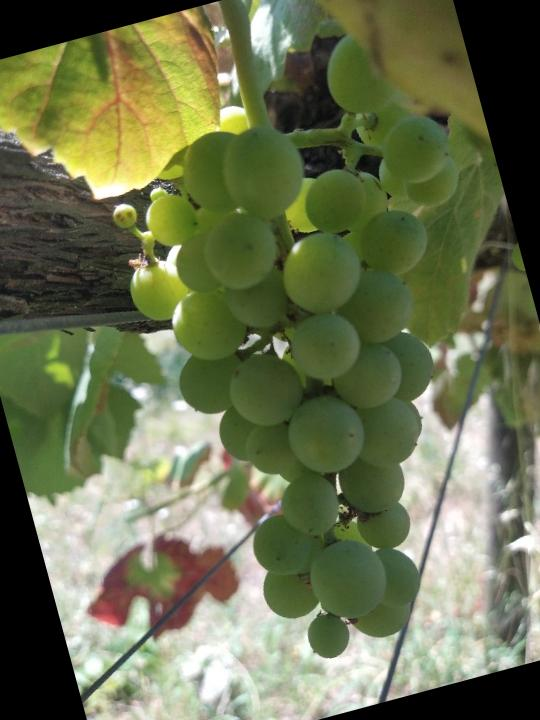grape: (77, 14, 540, 686)
